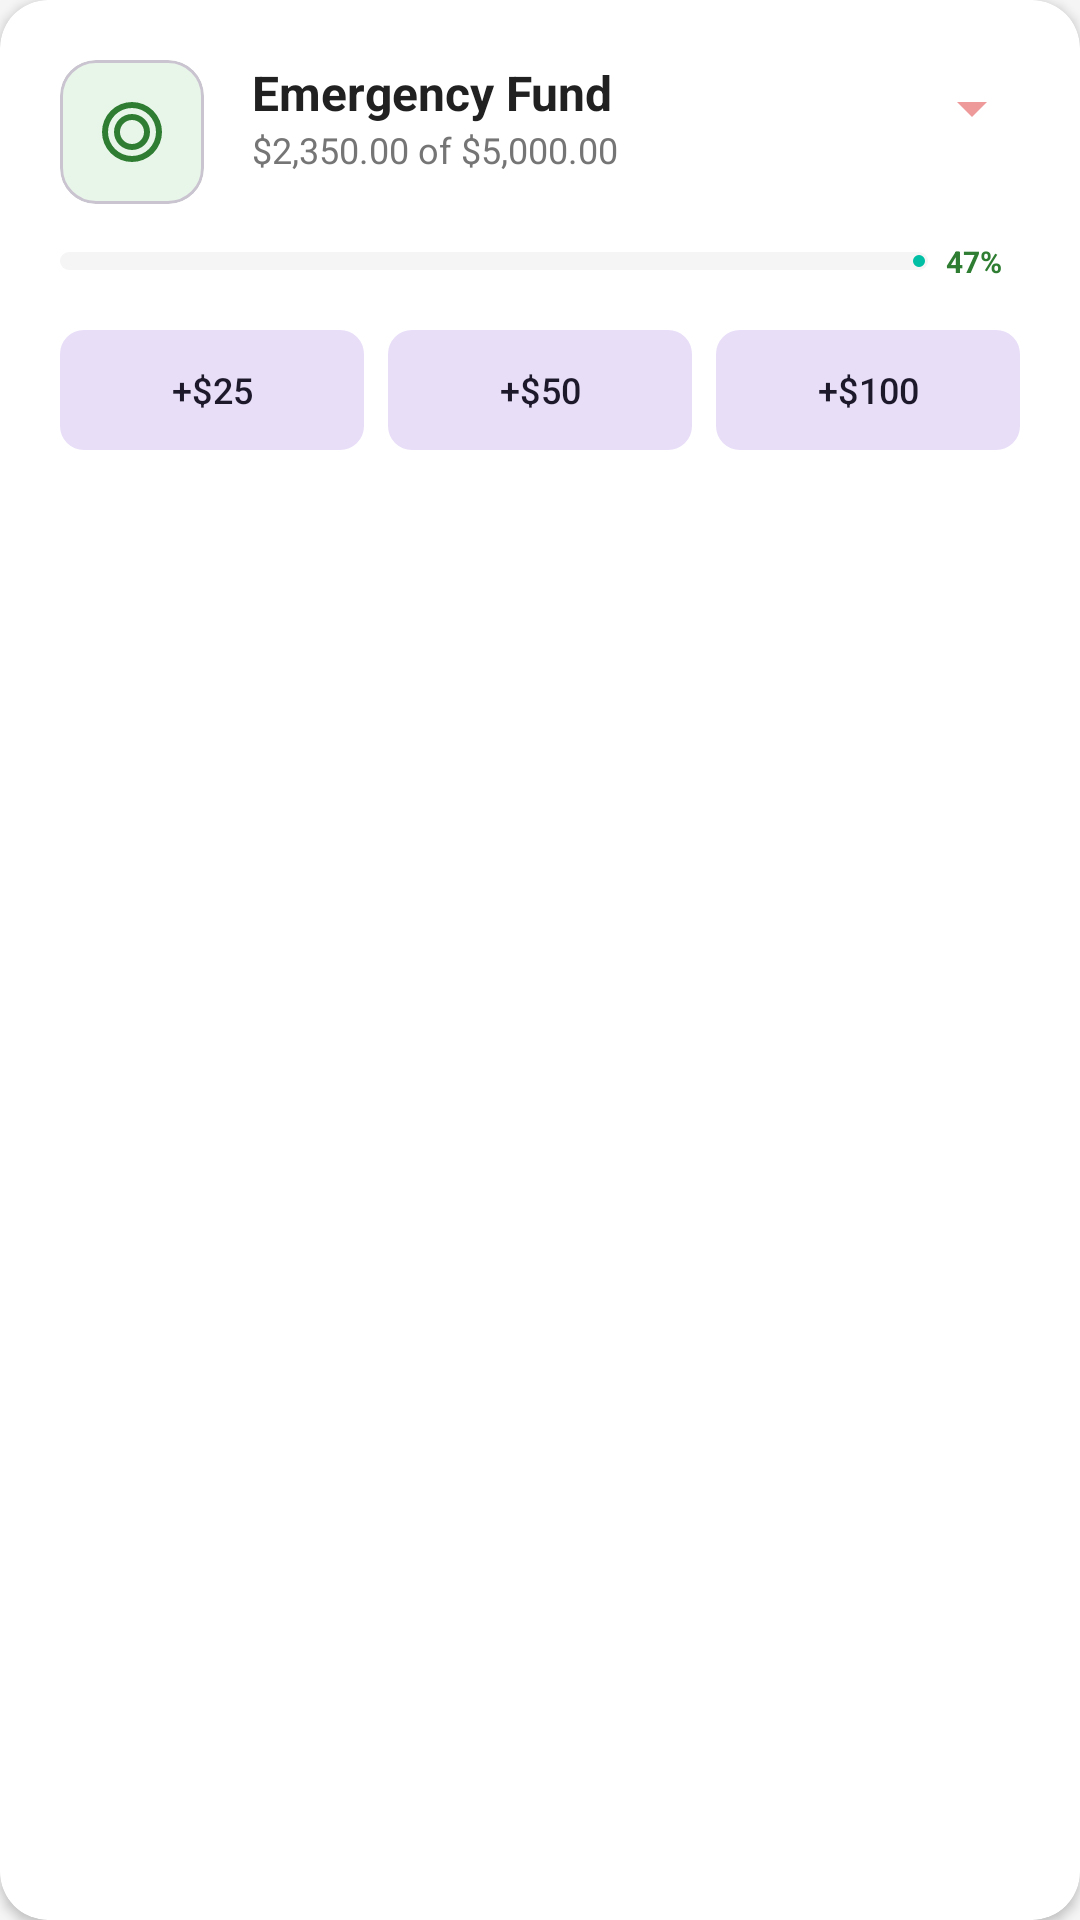

Point at icon controls on the screen. Image size 1080×1920, points as [x,y].
expense: [972,109]
goals: [132,132]
